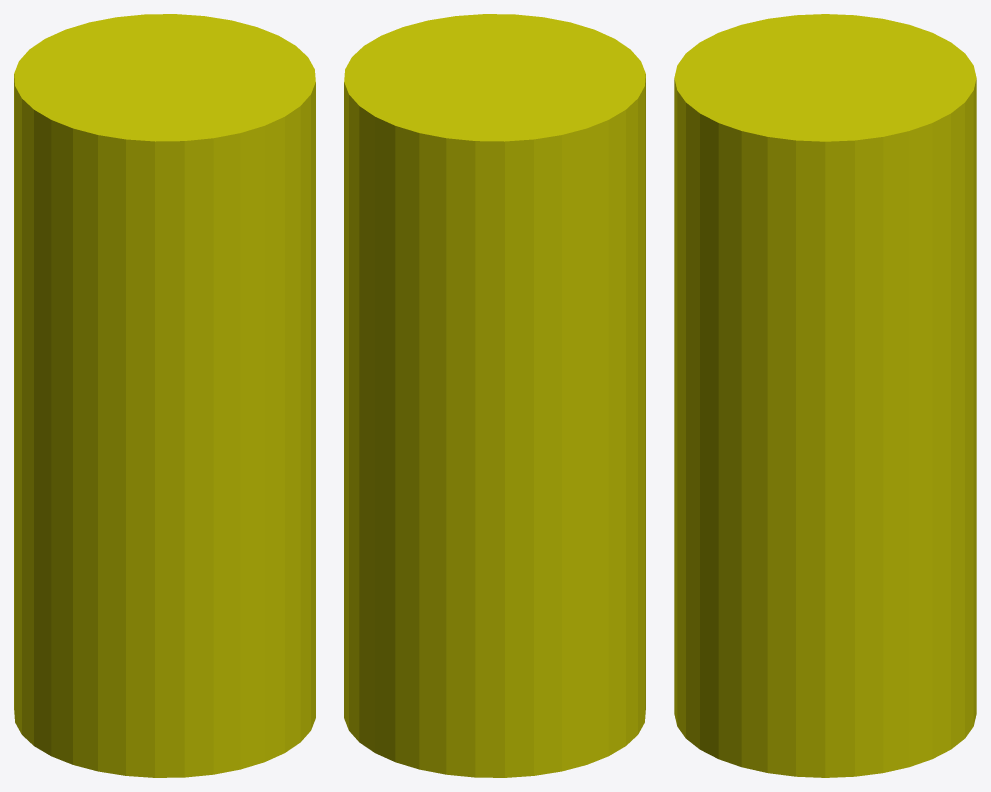
The model's file is Kloetzchen_1.fbx.
3 renders of one model, left to right at view 1: azimuth 30°, elevation 25°; view 2: azimuth 150°, elevation 25°; view 3: azimuth 270°, elevation 25°, orthographic.
Visible parts, largest first — view 1: Cylinder; view 2: Cylinder; view 3: Cylinder.
Boxes of the visible parts, left/top/right/bottom form: Cylinder: left=14, top=14, right=315, bottom=777; Cylinder: left=344, top=14, right=645, bottom=777; Cylinder: left=674, top=14, right=976, bottom=777.
Bounding box in the file's own units: 1.68 × 3.89 × 1.68.
